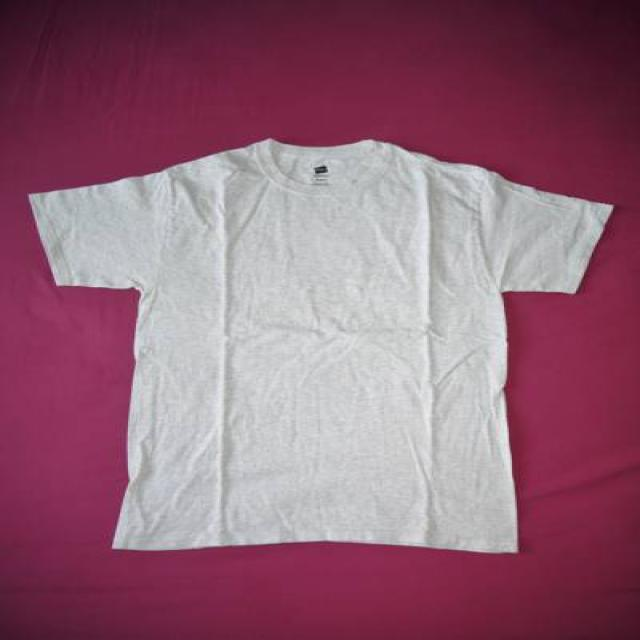shirt: (30, 138, 611, 551)
